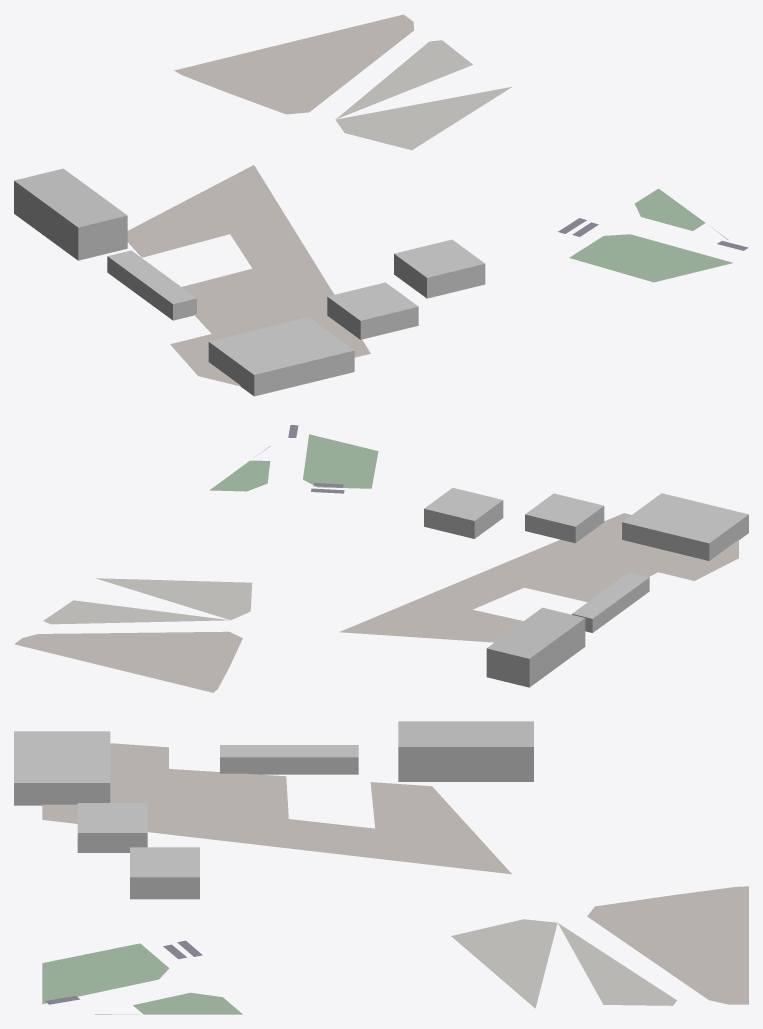
The model's file is 123_67_mid.glb.
3 views of the same model, one above another, from view 1: azimuth 30°, elevation 25°; view 2: azimuth 150°, elevation 25°; view 3: azimuth 270°, elevation 25° (orthographic). The views are drawn at different scales.
Size of the model in its own units: 461 by 27.99 by 520.
